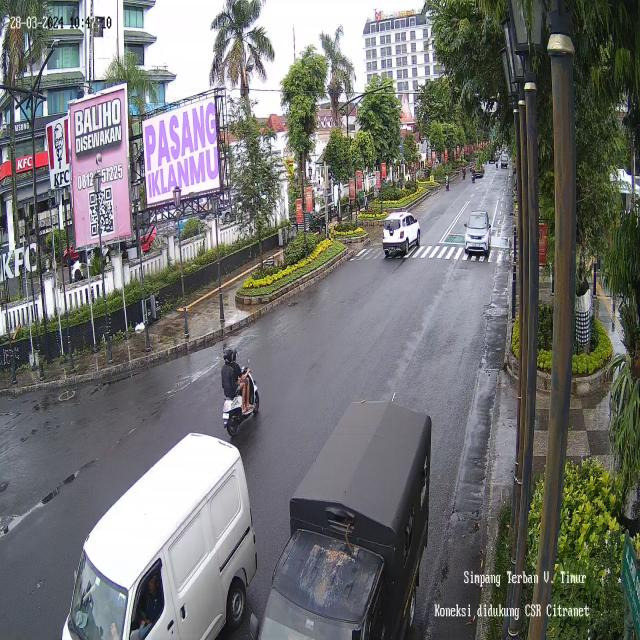car: (62, 429, 260, 640), (381, 202, 419, 265), (463, 210, 494, 261)
motorcycle: (221, 336, 260, 438)
truck: (248, 400, 446, 640)
